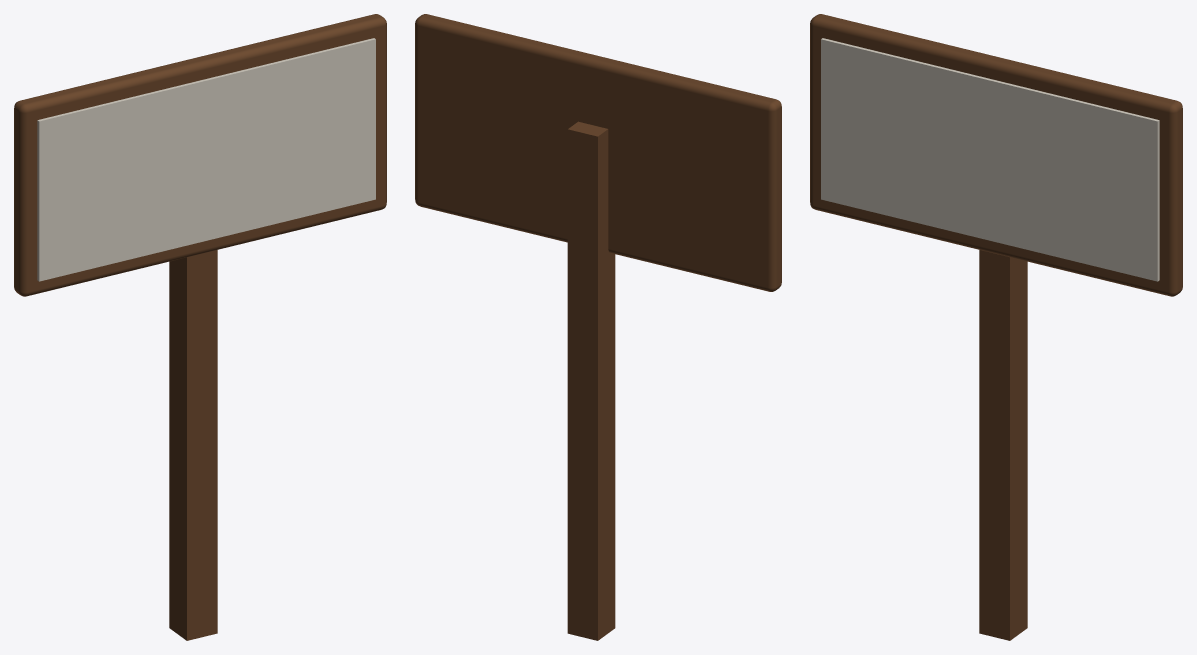
Rendered from signpost.glb.
The picture shows the model from 3 angles, left to right: view 1: azimuth 30°, elevation 25°; view 2: azimuth 150°, elevation 25°; view 3: azimuth 330°, elevation 25°; orthographic projection.
Visible parts, largest first — view 1: face, main; view 2: main; view 3: face, main.
Boxes of the visible parts, left/top/right/bottom form: face: left=37, top=38, right=375, bottom=281; main: left=14, top=14, right=386, bottom=640; main: left=415, top=14, right=781, bottom=640; face: left=821, top=38, right=1159, bottom=281; main: left=810, top=14, right=1182, bottom=640.
Size of the model in its own units: 1.2 by 1.8 by 0.13.
